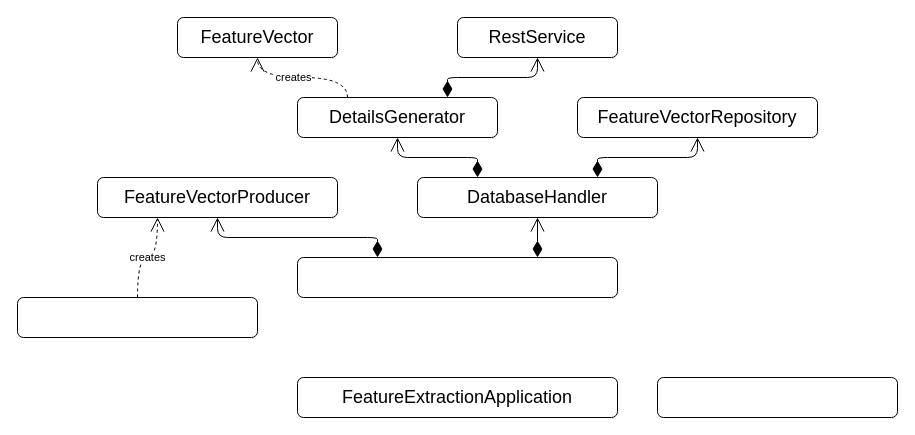
Some shapes in this 915 by 435 pixel diagram are drawn without their labels. The centre of each missing label's shape, as x and y in pixels:
"AbstractedTransactionConsumer" belongs at pixel 457 277.
"KafkaConsumerConfig" belongs at pixel 777 397.
"KafkaProducerConfig" belongs at pixel 137 317.
